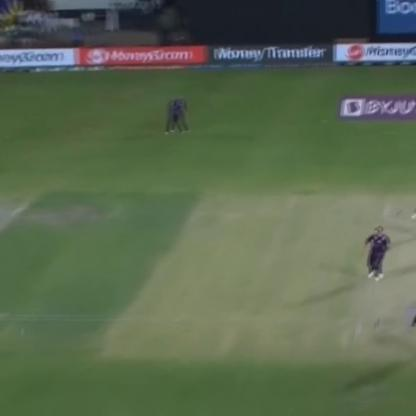ball: (16, 326, 31, 337)
pitch: (358, 193, 416, 344)
